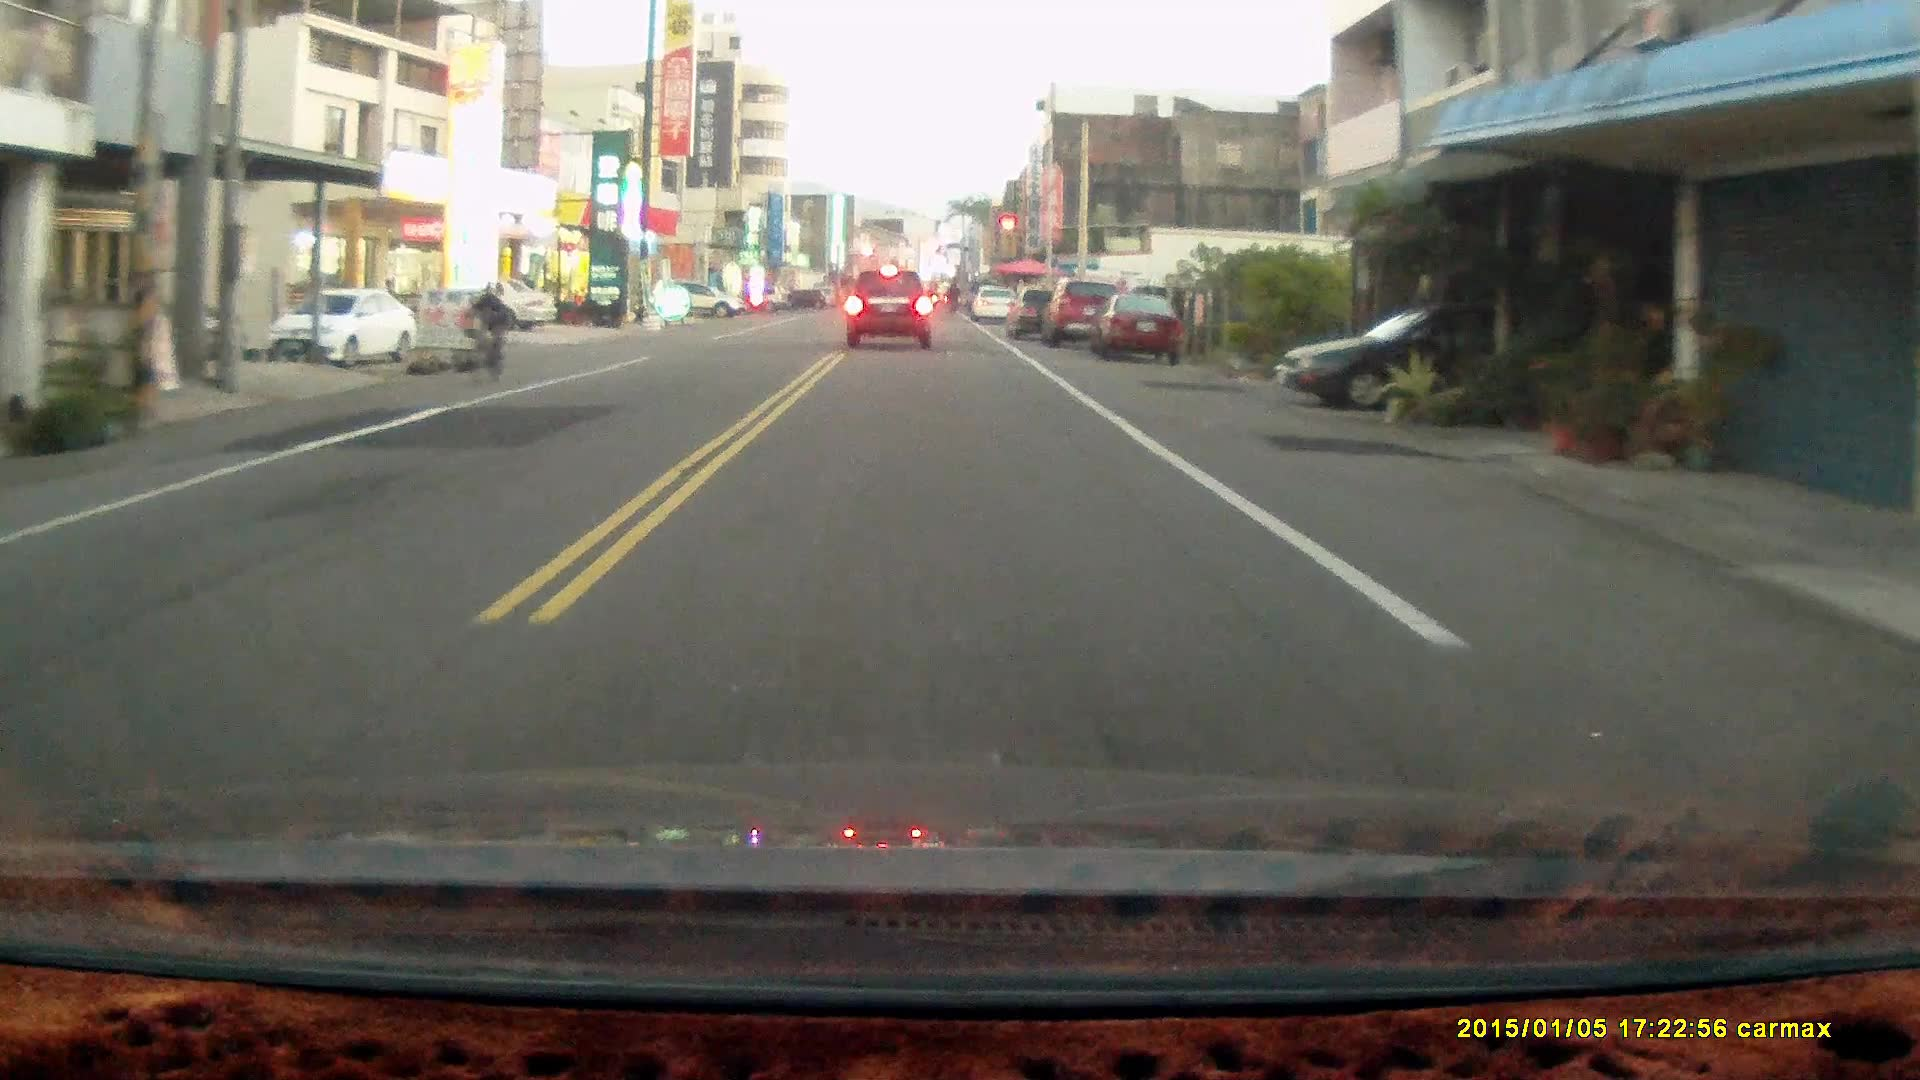rider: (459, 280, 508, 391)
vehicle: (1272, 298, 1636, 412), (267, 291, 415, 372), (417, 280, 561, 338), (842, 265, 937, 347), (1087, 296, 1185, 371), (1043, 278, 1128, 349), (657, 279, 744, 317)
